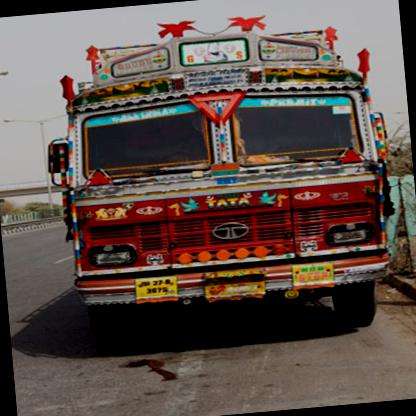truck: (42, 4, 404, 356)
